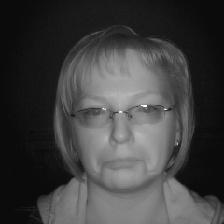sad: (48, 23, 198, 191)
